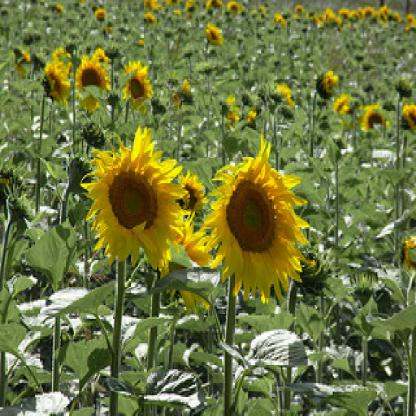SUN FLOWER: (17, 33, 409, 305)
